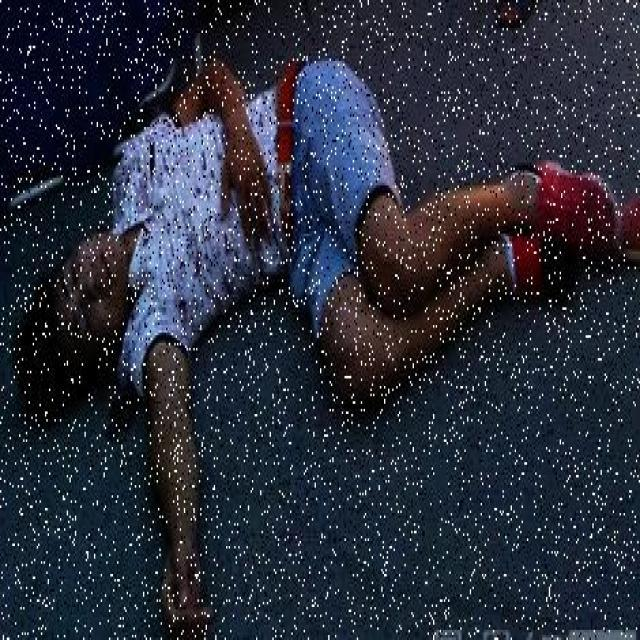fall: (21, 49, 600, 412)
